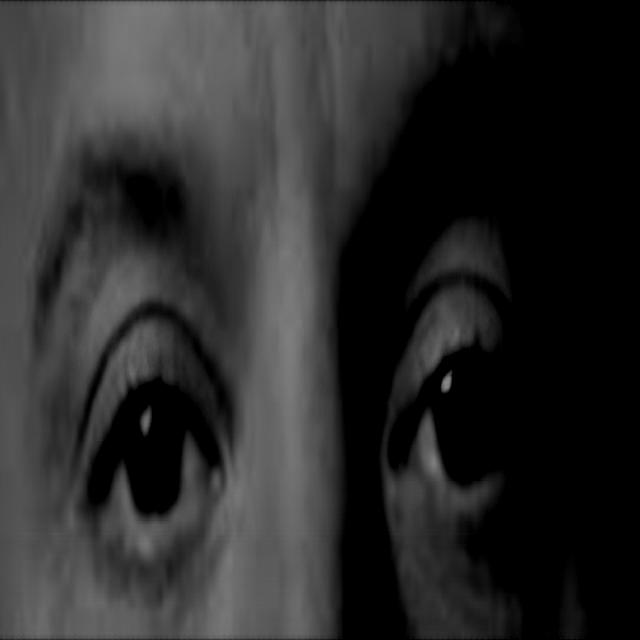real: (32, 118, 587, 608)
